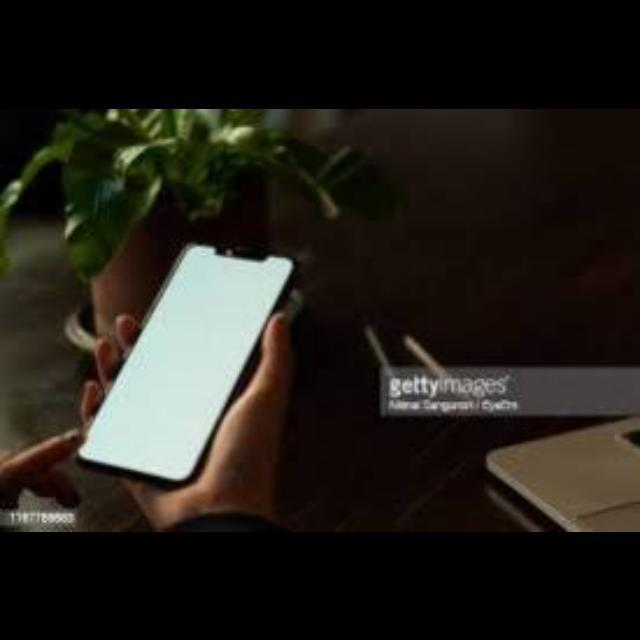PhoneUse: (67, 242, 297, 490)
